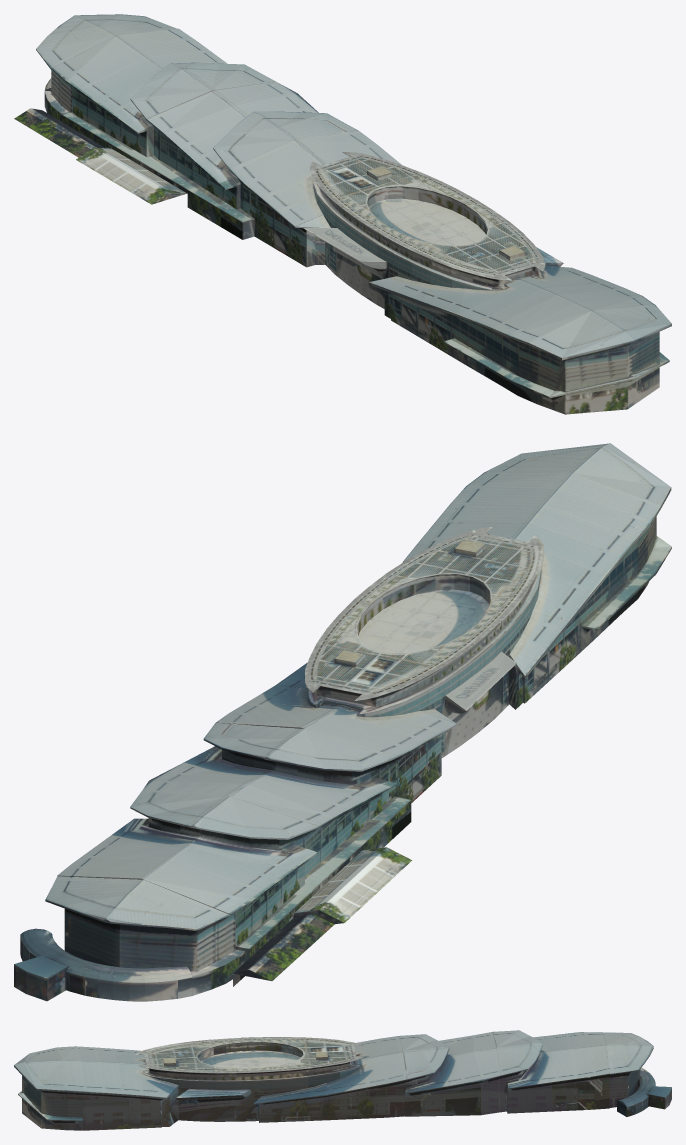
The picture shows the model from 3 angles, top to bottom: view 1: azimuth 30°, elevation 25°; view 2: azimuth 150°, elevation 25°; view 3: azimuth 270°, elevation 25°; orthographic projection. The views are drawn at different scales.
Visible parts, largest first — view 1: geometry_0; view 2: geometry_0; view 3: geometry_0.
Boxes of the visible parts, bbox=[...] form: geometry_0: bbox=[14, 14, 671, 414]; geometry_0: bbox=[14, 443, 671, 1001]; geometry_0: bbox=[14, 1030, 671, 1130].
Size of the model in its own units: 49.93 by 15.61 by 180.
1 material, 1 textured.
